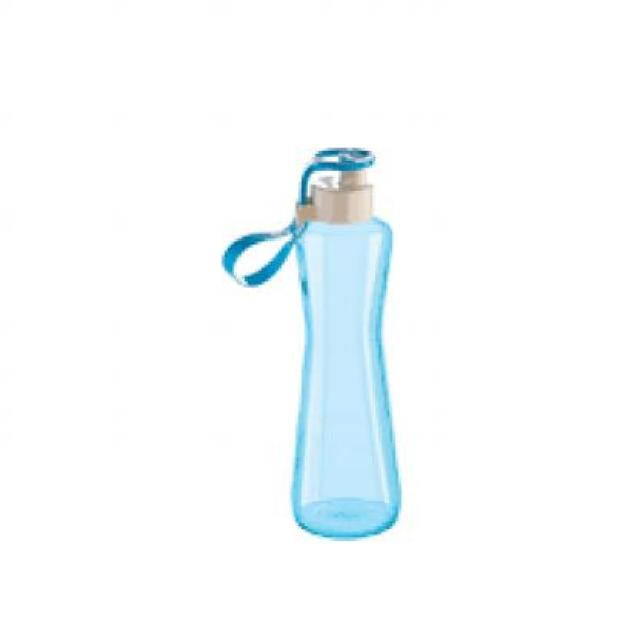Drinking: (262, 138, 429, 530)
